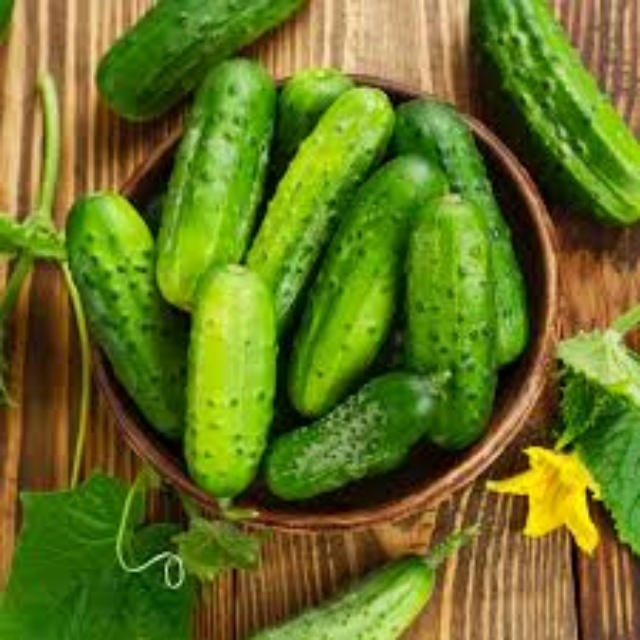dua_leo: (153, 60, 265, 320), (401, 195, 500, 454), (263, 372, 450, 501), (183, 263, 279, 507)
